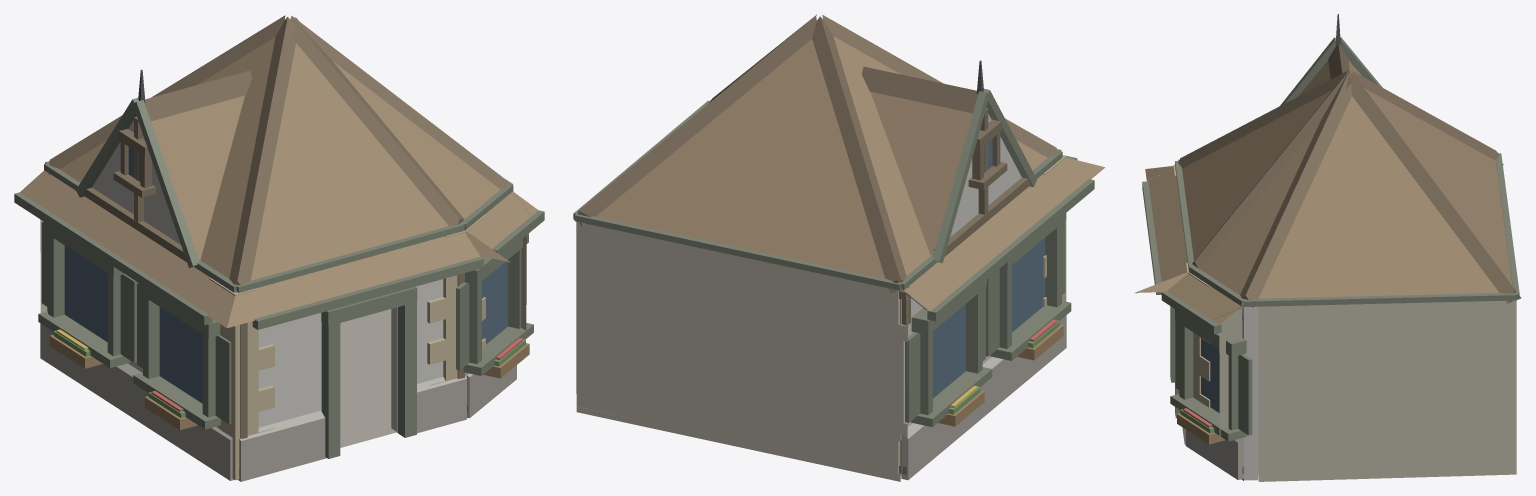
The model's file is b038_closed.glb.
3 renders of one model, left to right at view 1: azimuth 30°, elevation 25°; view 2: azimuth 150°, elevation 25°; view 3: azimuth 270°, elevation 25°, orthographic. The views are drawn at different scales.
Visible parts, largest first — view 1: B038_visible; view 2: B038_visible; view 3: B038_visible.
Part boxes in pixels (x1,y1,x2,y2): B038_visible: (14, 15, 544, 481); B038_visible: (573, 14, 1104, 481); B038_visible: (1135, 14, 1521, 481).
Bounding box in the file's own units: 6.78 × 6.23 × 6.52.
